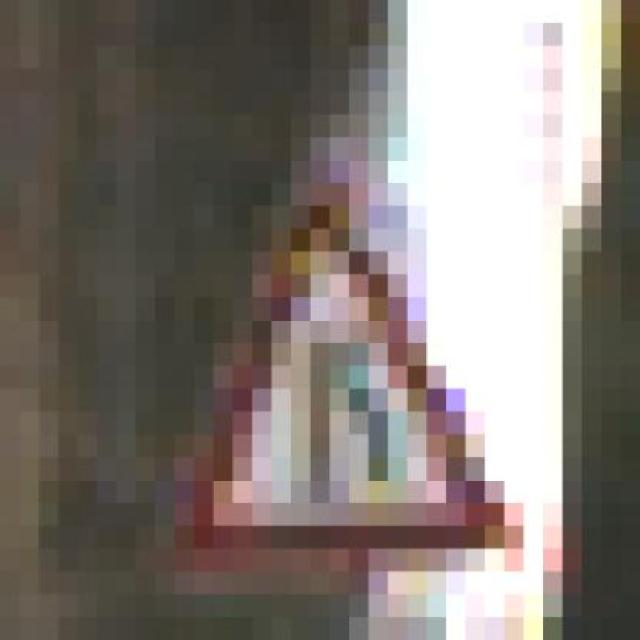-Road narrows on right: (135, 159, 543, 572)
